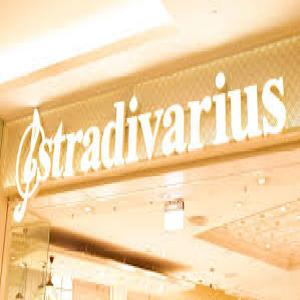stradivarius: (28, 111, 300, 133)
